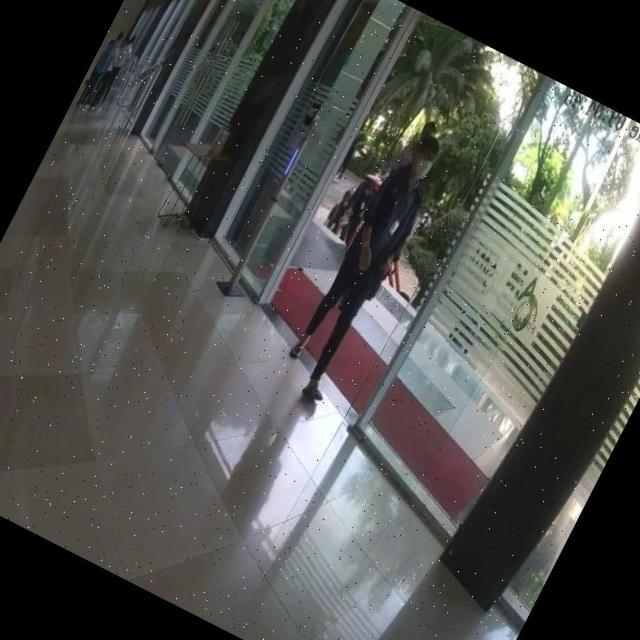person: (271, 125, 456, 412)
